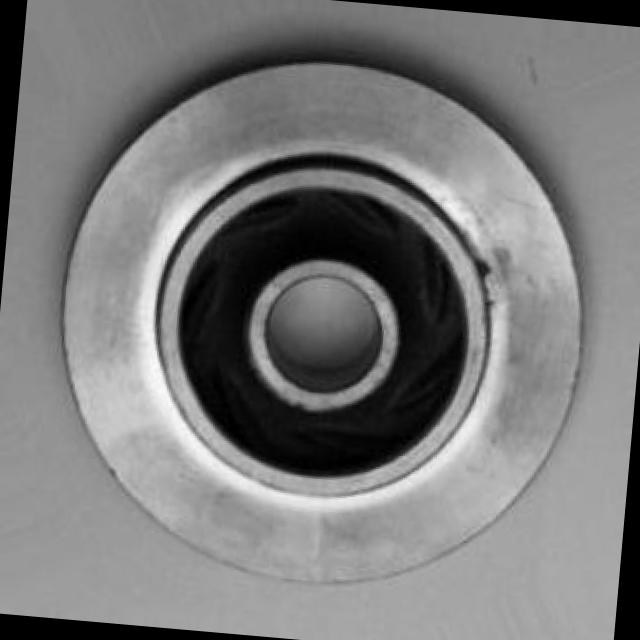Defect: (471, 242, 500, 290)
